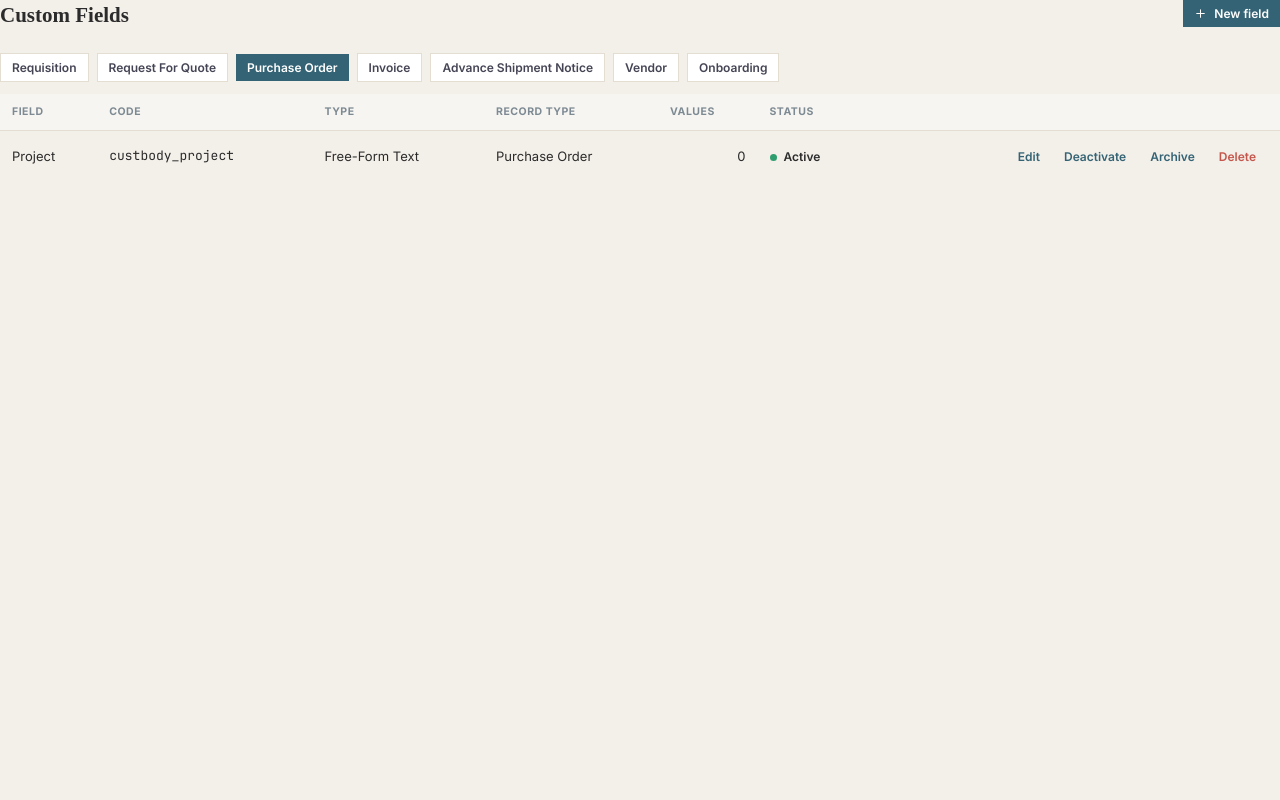
Test: AdminCustomFields — CF-FIX3 three-tier lifecycle dialog › T5: the edit modal keeps the type immutable and Create replacement prefills a NEW field
Click the button "Edit".
click(1029, 156)  # box [1006,142,1052,171]
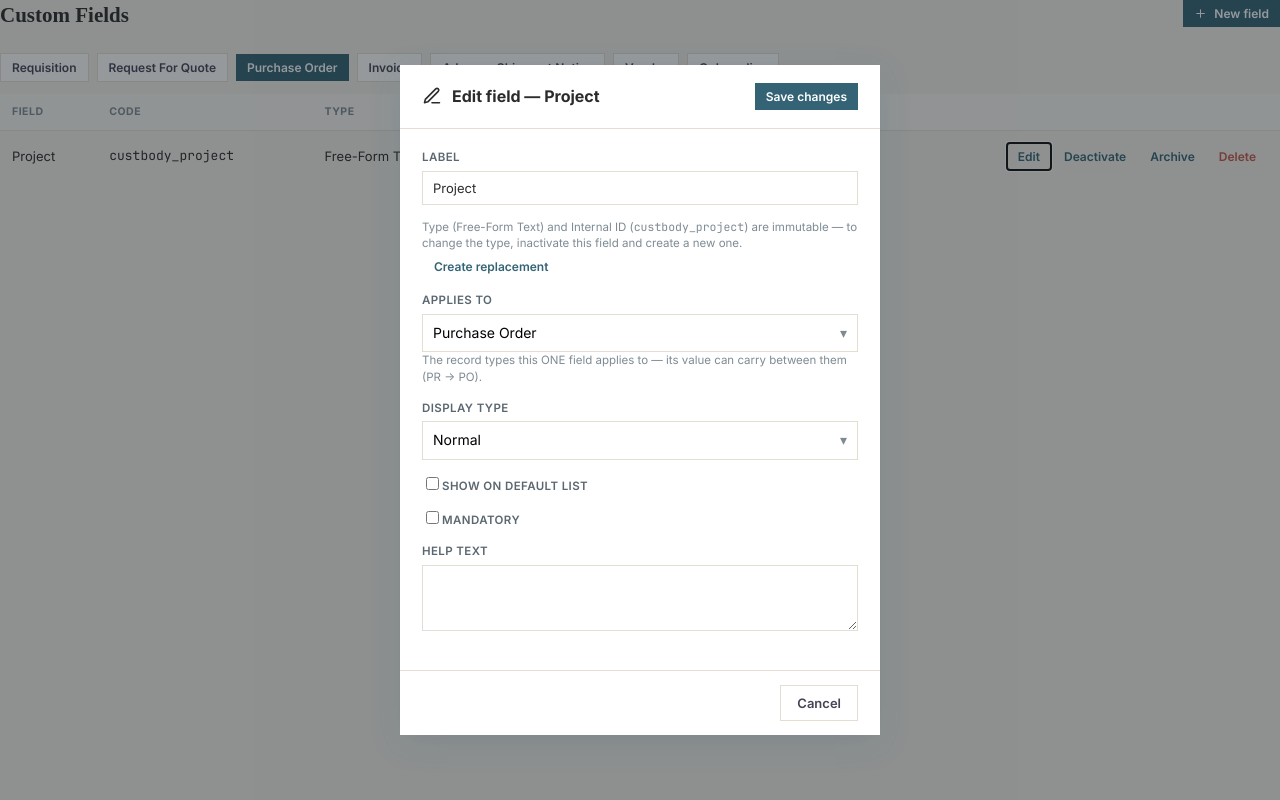
Now the text "inactivate this field and create a new one" is shown, box [422,220,857,250]
Click the button with aria-label "Create replacement for Project".
click(491, 266)  # box [422,252,560,281]
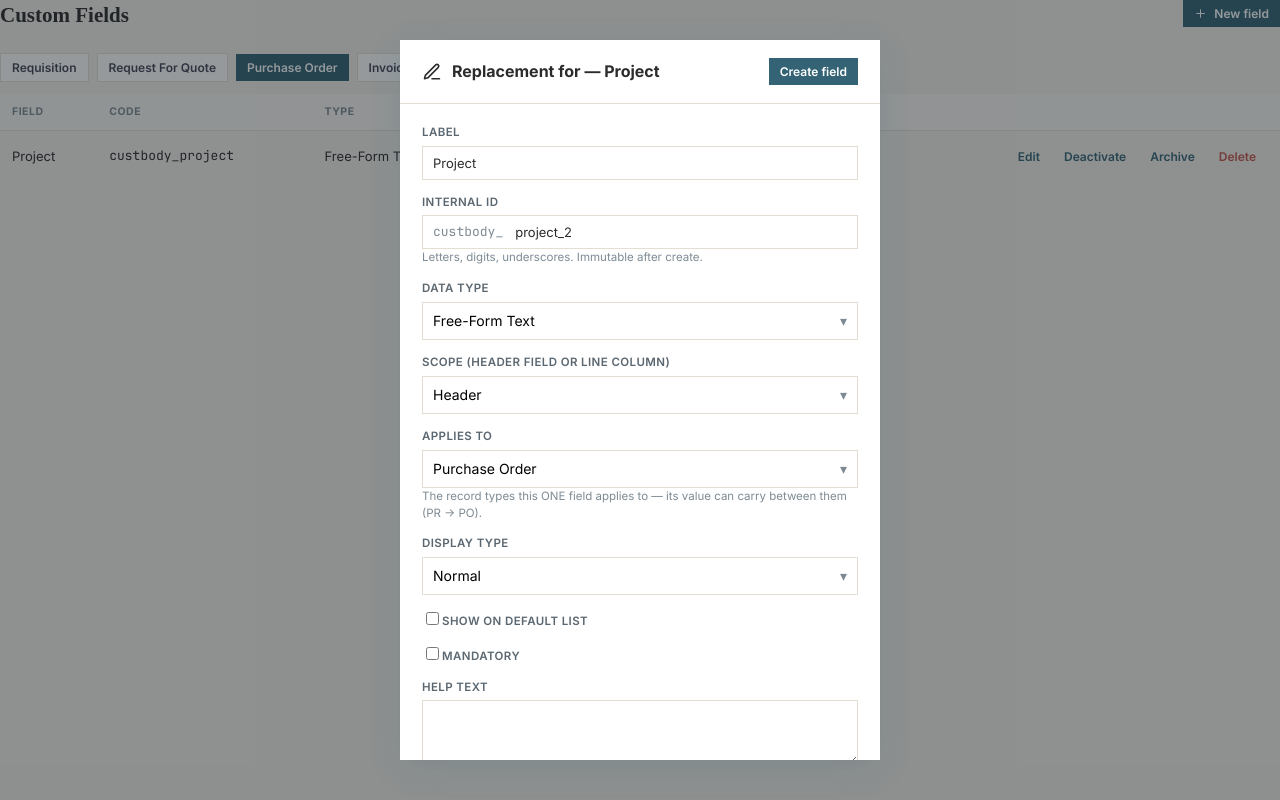
Now the heading "Replacement for — Project" is shown, box [452,60,660,83]
Now the field labelled "Label" holds "Project", box [422,146,858,180]
Now the field labelled "Internal ID" holds "project_2", box [505,216,857,248]
